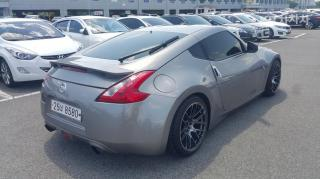0: (74, 109, 79, 118)
2: (53, 100, 57, 110)
5: (68, 105, 72, 116), (57, 102, 60, 112)
8: (64, 105, 68, 115), (71, 107, 75, 117)
너: (60, 103, 64, 112)
